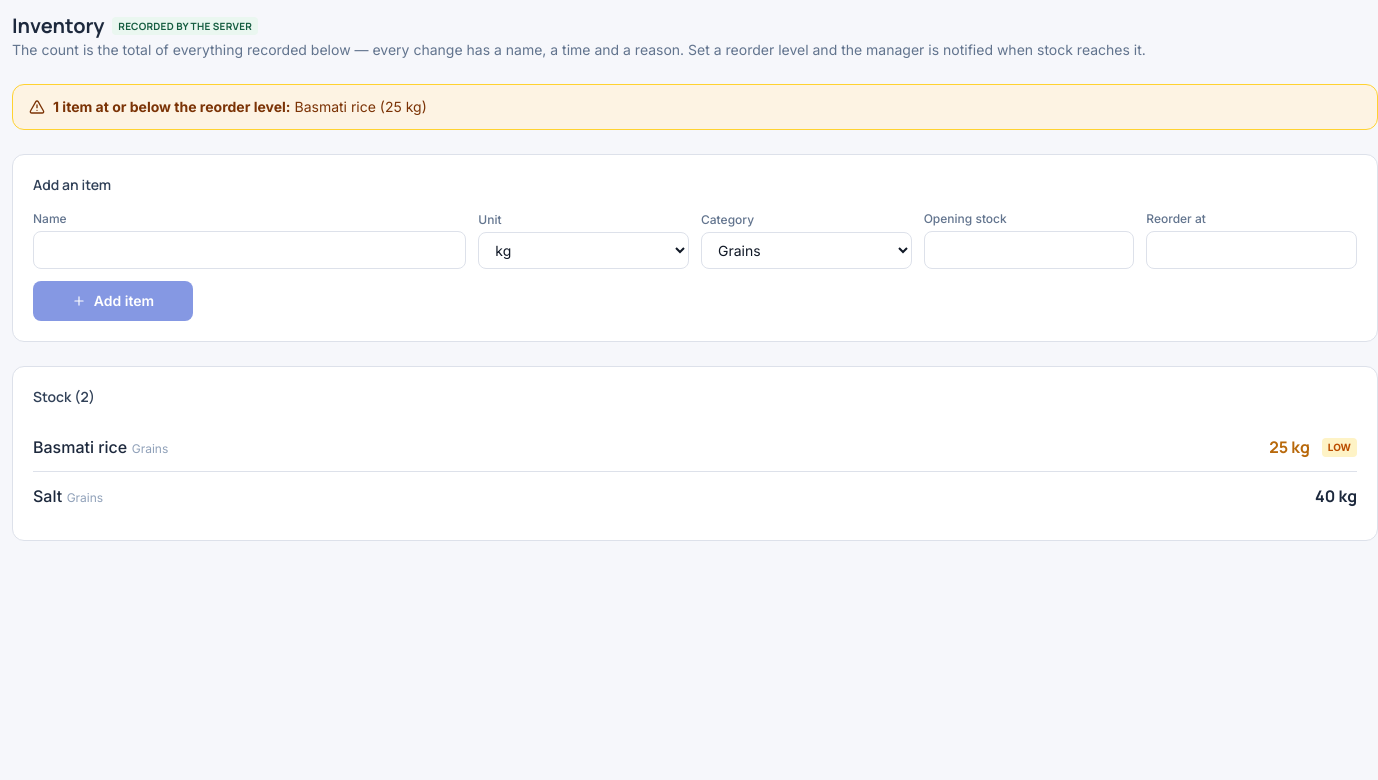
Inventory — real stock › shows the server's refusal when taking out more than is on the shelf
The width and height of the screenshot is (1378, 780).
Click the button with aria-label "basmati rice details" at (80, 447), box x1=33 y1=435 x2=1257 y2=459
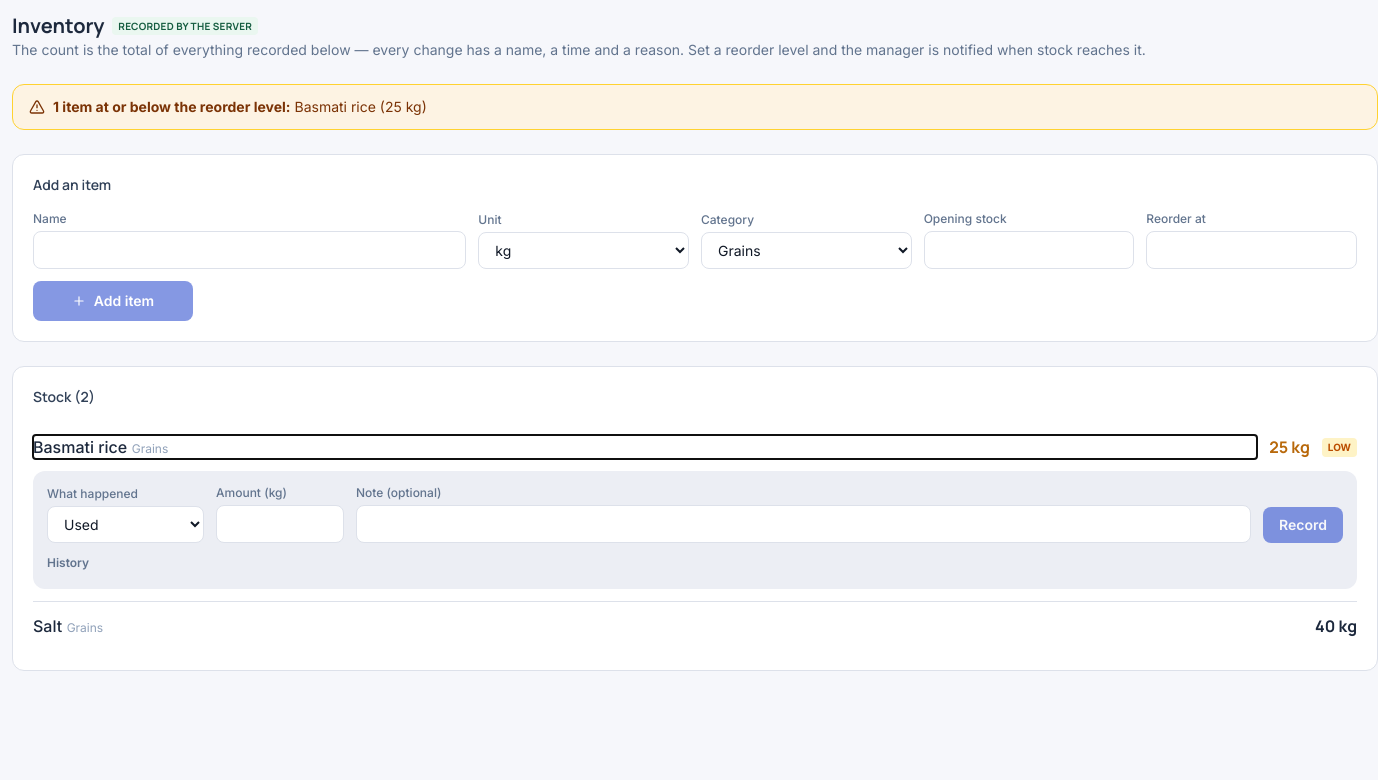
Type "500" into the number field labelled "Amount" at (280, 524), box x1=216 y1=505 x2=344 y2=543
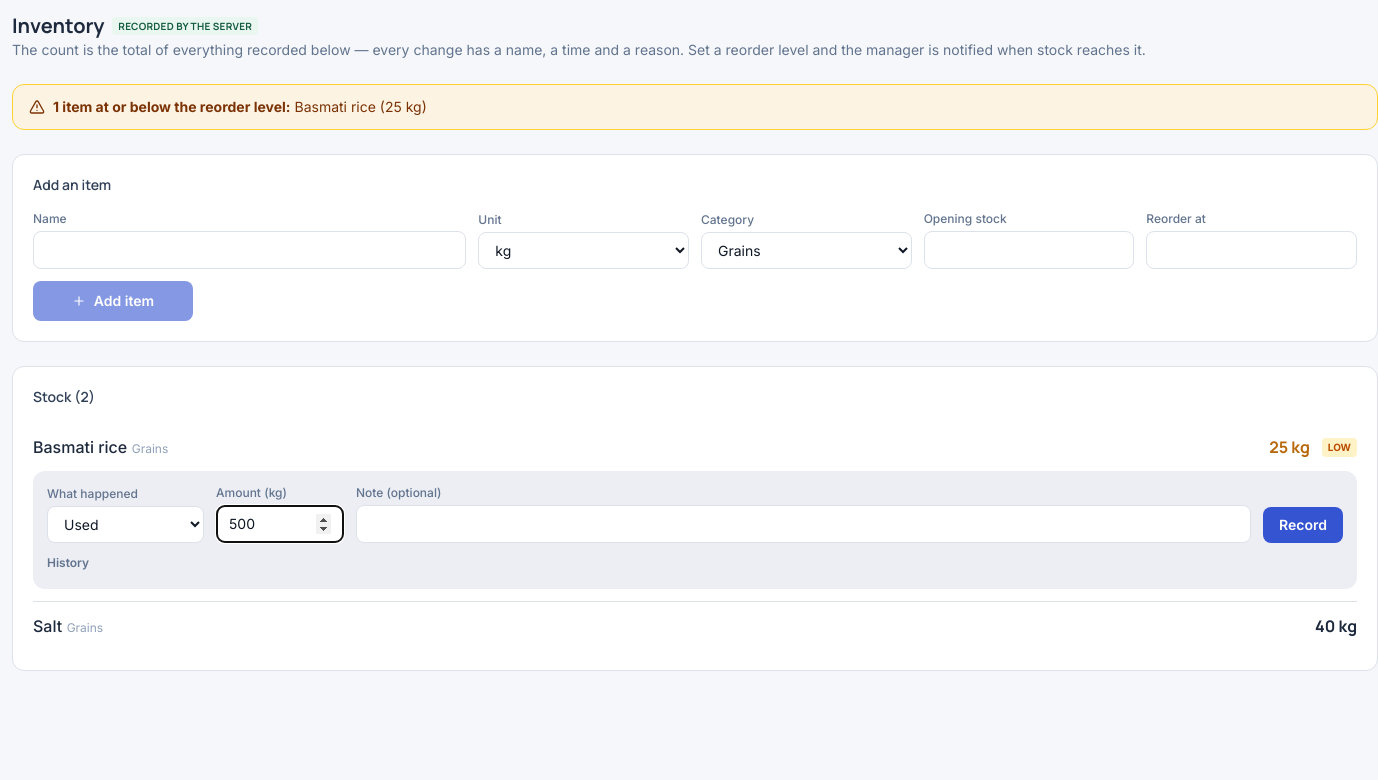
Click the button "Record" at (1303, 525), box x1=1263 y1=507 x2=1343 y2=543
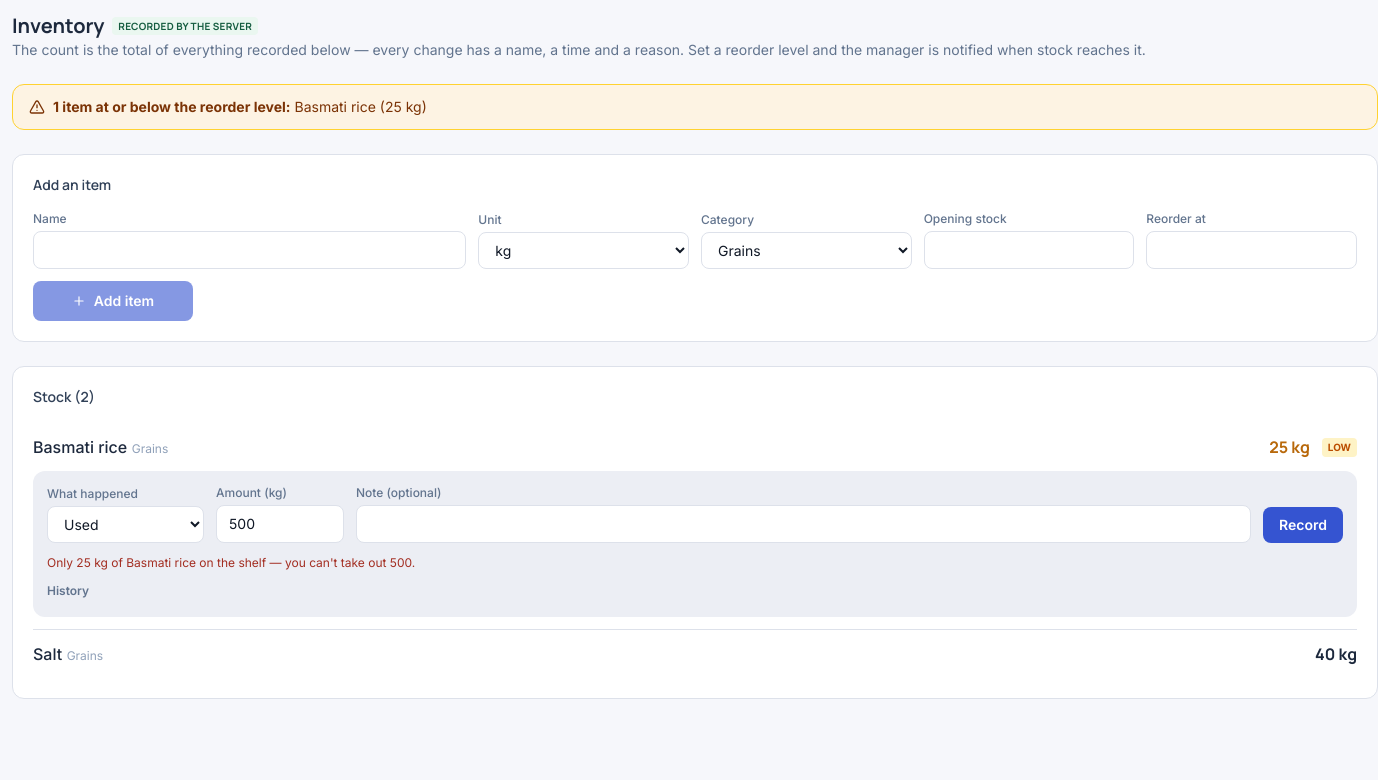
Expected: the message "Only 25 kg of Basmati rice on the shelf — you can't take out 500." is shown, x1=47 y1=555 x2=415 y2=570
